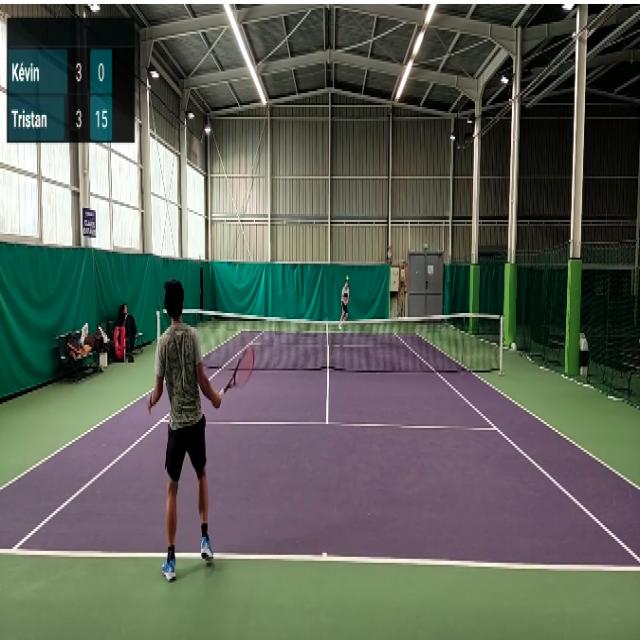ball: (346, 275, 349, 281)
